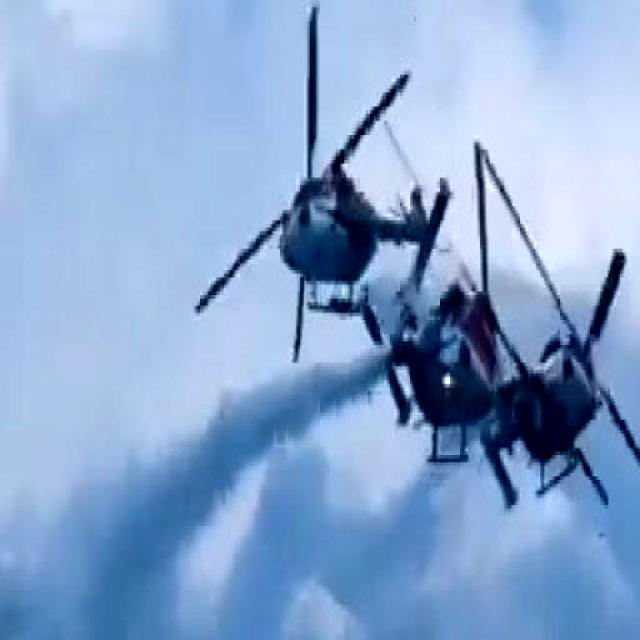drone: (461, 212, 640, 594), (228, 30, 465, 318), (382, 211, 511, 464)
